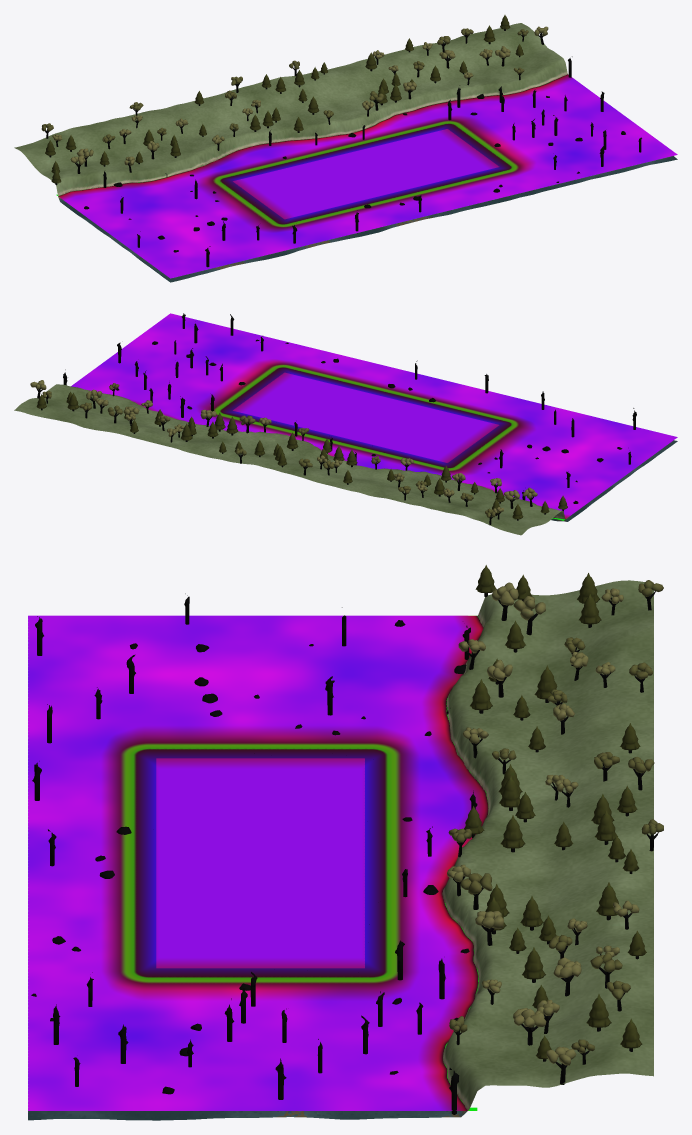
Rendered from surroundings_29x11.glb.
3 views of the same model, one above another, from view 1: azimuth 30°, elevation 25°; view 2: azimuth 150°, elevation 25°; view 3: azimuth 270°, elevation 25° (orthographic). The views are drawn at different scales.
Visible parts, largest first — view 1: water, ground, props; view 2: water, ground, props; view 3: water, ground, props.
Part boxes in pixels (x1,y1,x2,y2): water: (56,74,677,278); ground: (14,23,677,282); props: (41,15,641,267); water: (71,313,677,520); ground: (14,384,677,535); props: (30,313,636,524); water: (28,615,488,1110); ground: (28,580,653,1120); props: (31,565,663,1114).
Size of the model in its own units: 74.21 by 5.81 by 39.62.
Materials: 4 (4 with a texture image).
